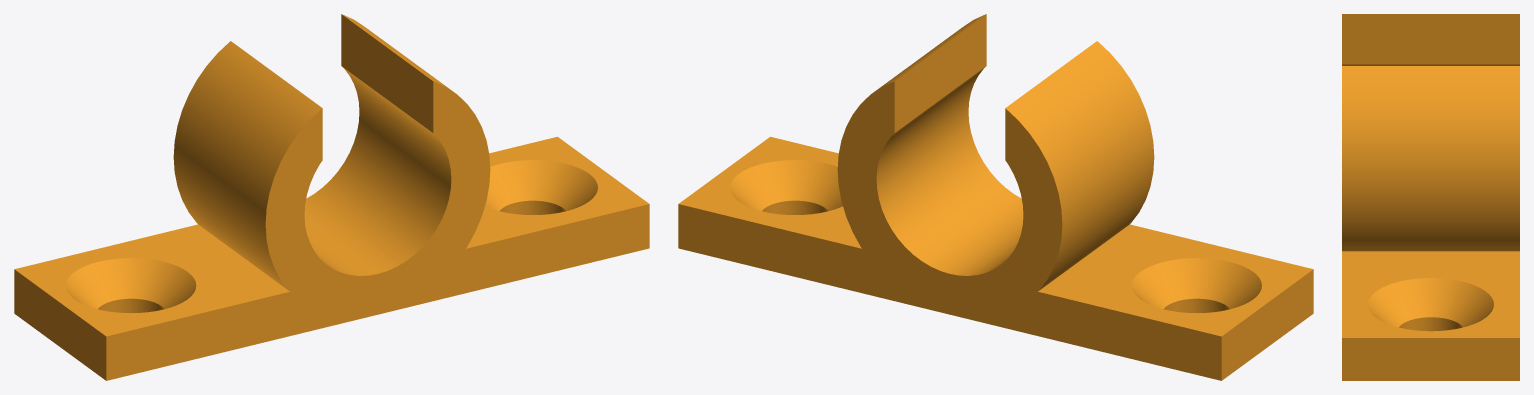
Rendered from clip_cable_8mm.fbx.
The picture shows the model from 3 angles, left to right: view 1: azimuth 30°, elevation 25°; view 2: azimuth 150°, elevation 25°; view 3: azimuth 270°, elevation 25°; orthographic projection. The views are drawn at different scales.
Visible parts, largest first — view 1: clip_cable_8mm; view 2: clip_cable_8mm; view 3: clip_cable_8mm.
Boxes of the visible parts, bbox=[...] form: clip_cable_8mm: bbox=[14, 14, 649, 380]; clip_cable_8mm: bbox=[678, 14, 1313, 380]; clip_cable_8mm: bbox=[1342, 14, 1519, 380].
Size of the model in its own units: 0.0307 by 0.0119 by 0.009.
